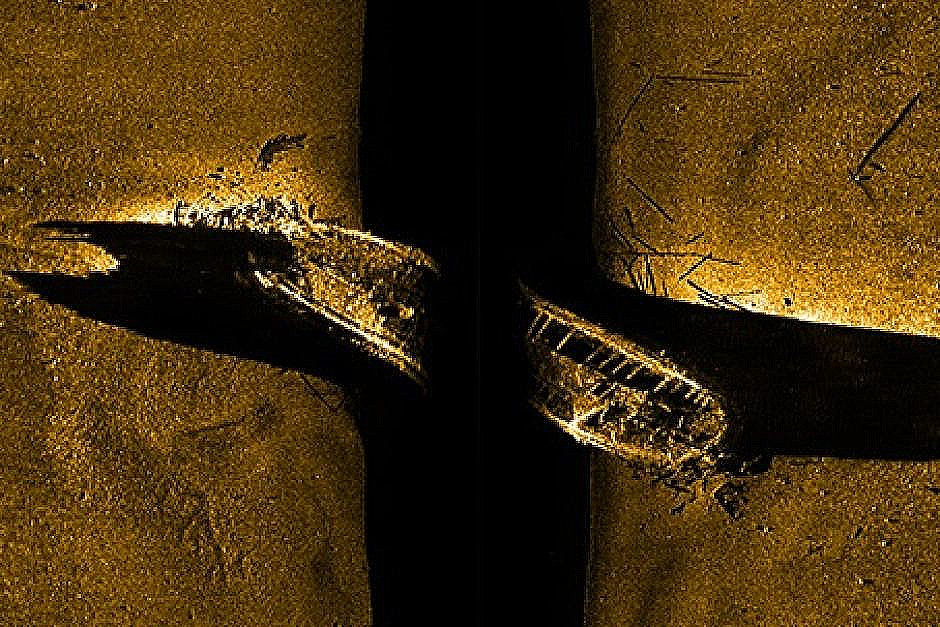ship: (170, 194, 736, 480)
